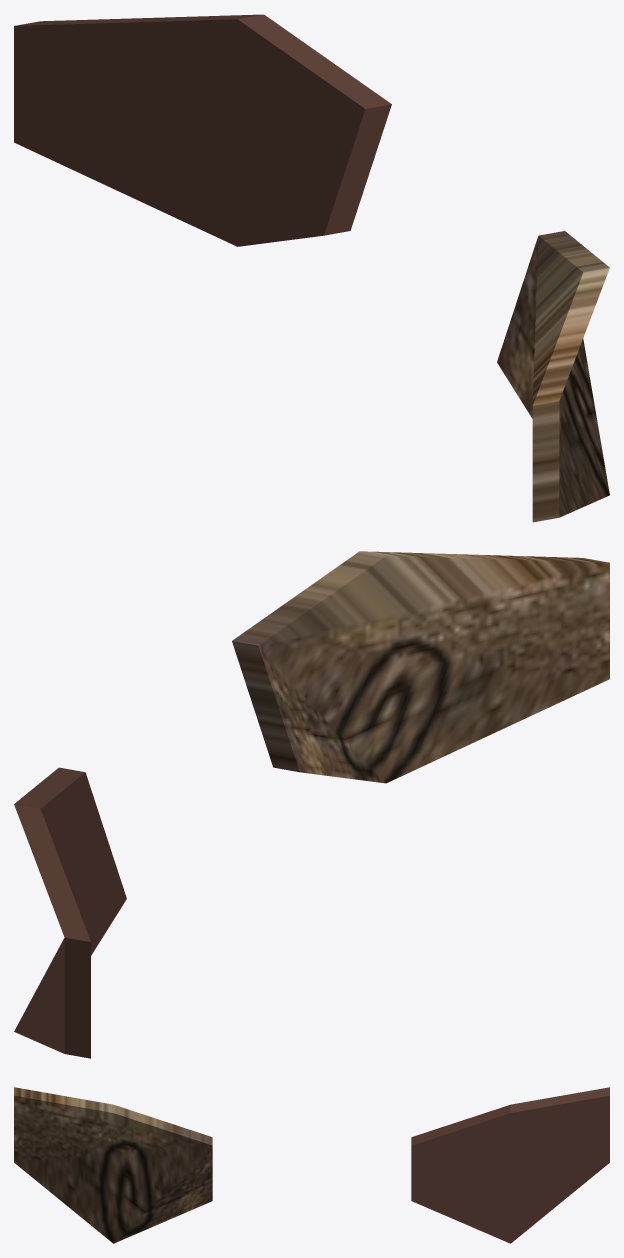
Rendered from MaskEyes.obj.
The picture shows the model from 3 angles, top to bottom: view 1: azimuth 30°, elevation 25°; view 2: azimuth 150°, elevation 25°; view 3: azimuth 270°, elevation 25°; orthographic projection. The views are drawn at different scales.
Visible parts, largest first — view 1: MaskEyes_Mask_Cube.001; view 2: MaskEyes_Mask_Cube.001; view 3: MaskEyes_Mask_Cube.001.
Boxes of the visible parts, x1=… form: MaskEyes_Mask_Cube.001: x1=14, y1=14, x2=609, y2=522; MaskEyes_Mask_Cube.001: x1=14, y1=551, x2=609, y2=1058; MaskEyes_Mask_Cube.001: x1=14, y1=1087, x2=609, y2=1243.
Bounding box in the file's own units: 0.2695 × 0.2877 × 1.18.
Materials: 1 (1 with a texture image).
